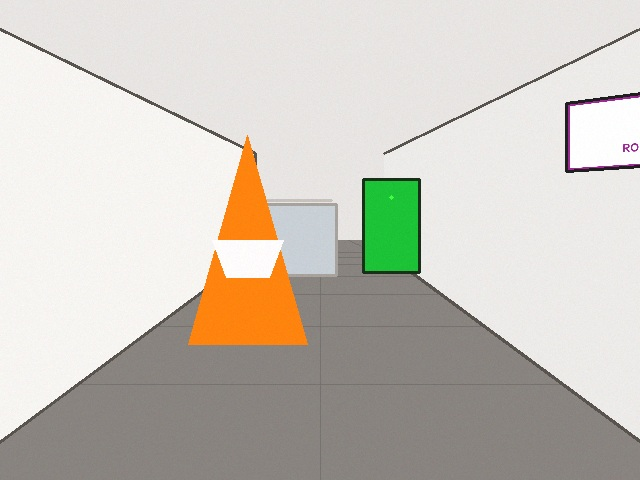charging_station: (363, 179, 419, 272)
directional_sign: (566, 80, 639, 171)
hospital_bed: (233, 204, 336, 275)
obstacle: (188, 135, 307, 344)
